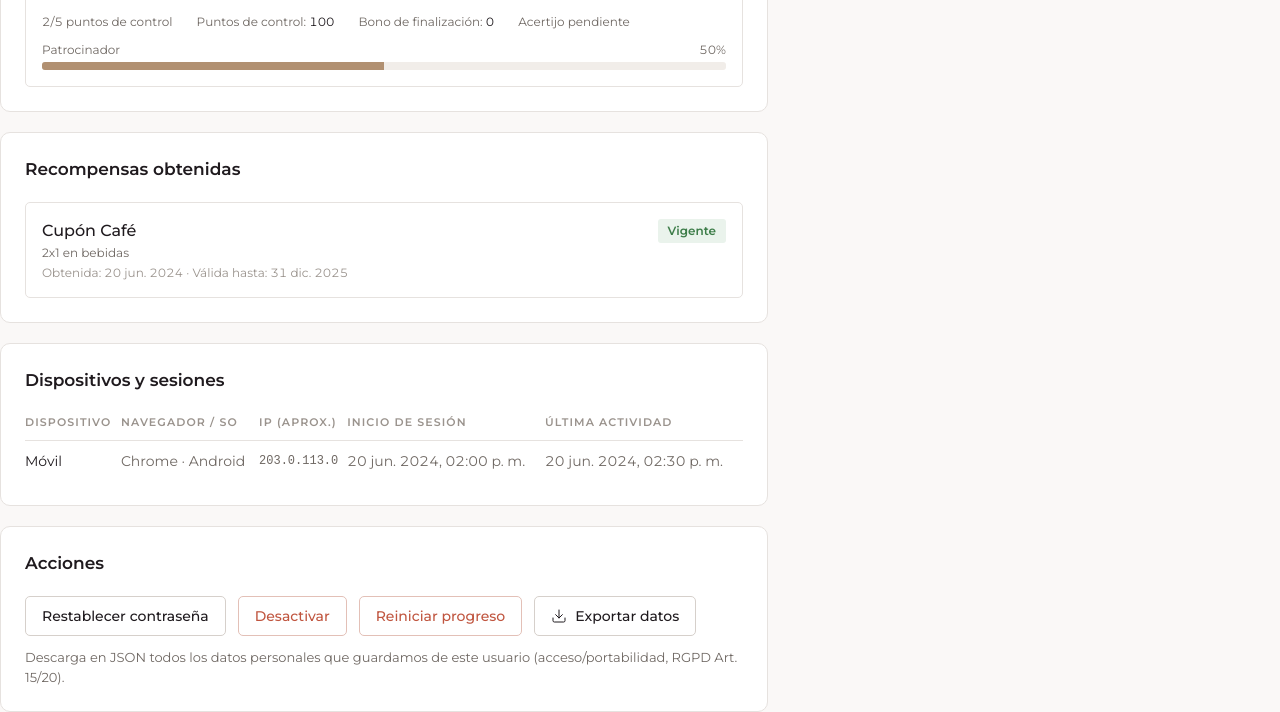
Scenario: UserDetail — reset progress › warns before wiping and shows a success toast after confirming
(page scrolled)
Click the button "Reiniciar progreso". click: (440, 616)
box: top-left (359, 596), bottom-right (522, 636)
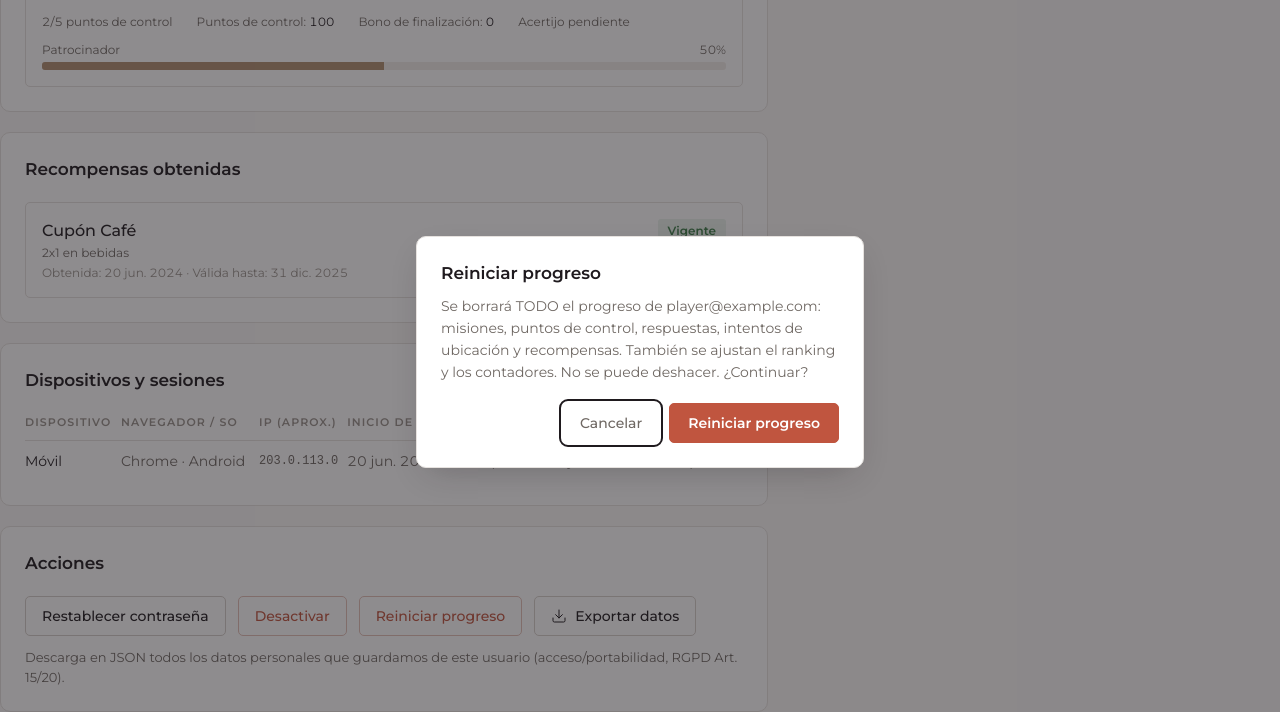
Result: the text "Se borrará TODO el progreso" is shown at top-left (441, 297), bottom-right (835, 381)
Click the button "Reiniciar progreso". click: (754, 423)
box: top-left (669, 403), bottom-right (839, 443)
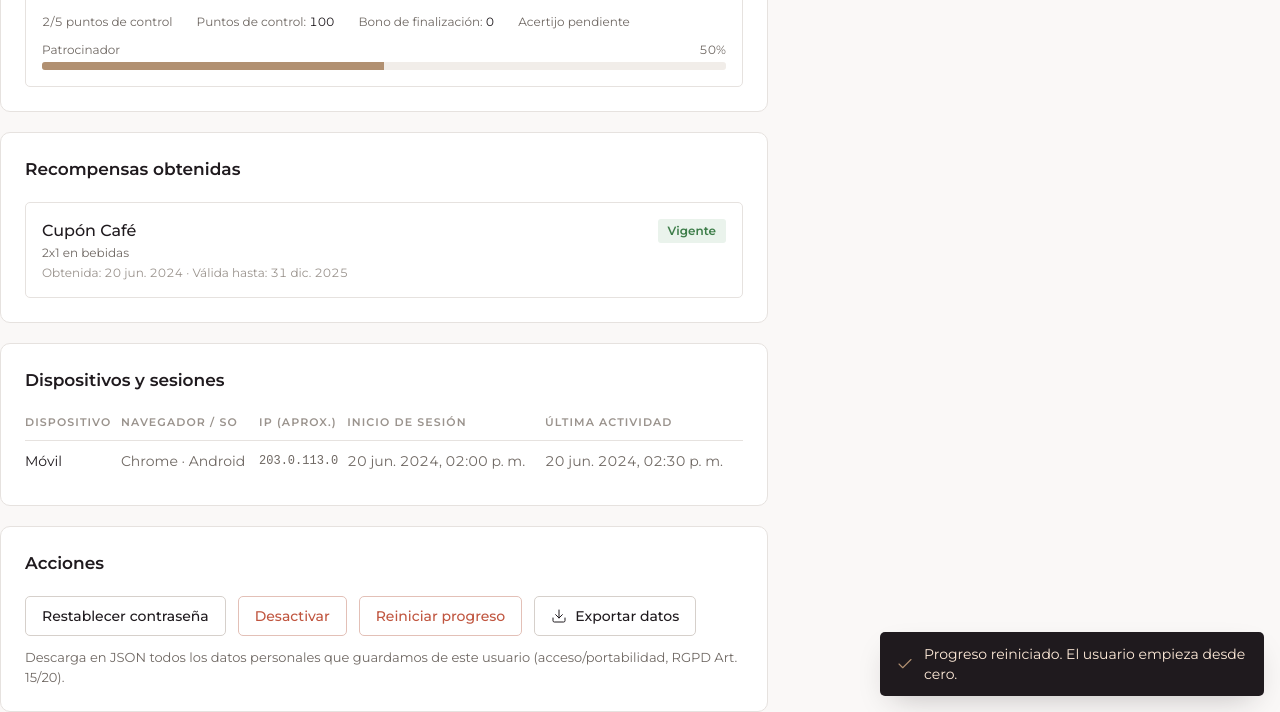
Result: the text "Progreso reiniciado. El usuario empieza desde cero." is shown at top-left (880, 632), bottom-right (1264, 696)
